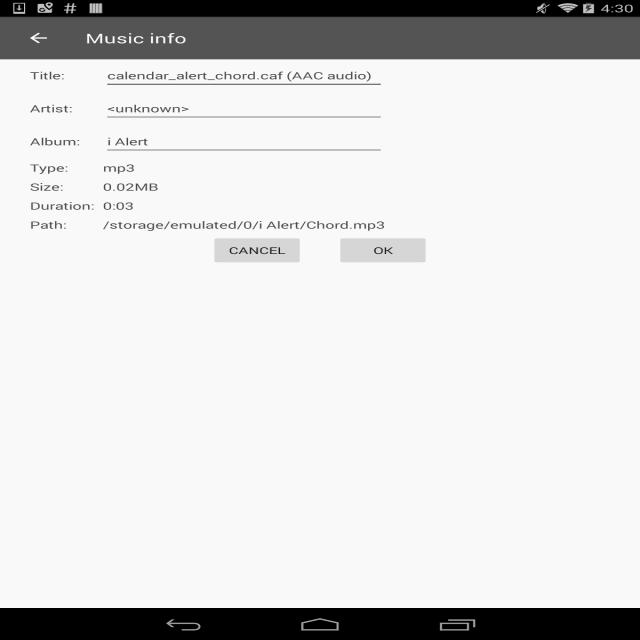Button: (210, 234, 304, 266), (336, 234, 430, 266)
EditText: (103, 62, 385, 90), (103, 95, 385, 123), (103, 128, 385, 156)
ImageButton: (9, 17, 68, 59)
TextView: (103, 161, 385, 175), (103, 180, 385, 194), (103, 199, 385, 213), (103, 218, 385, 232), (85, 29, 187, 47), (30, 161, 94, 175), (30, 180, 94, 194), (30, 199, 94, 213), (30, 218, 94, 232), (30, 69, 94, 82), (30, 102, 94, 115), (30, 135, 94, 148)
